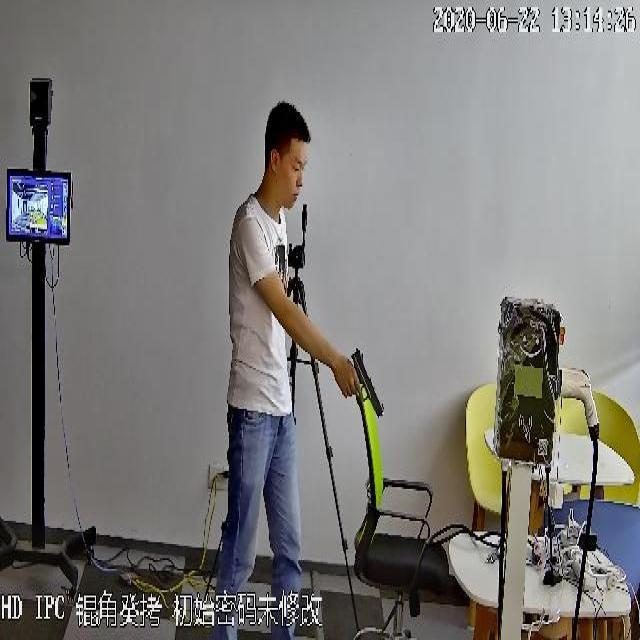pistol: (342, 348, 388, 420)
